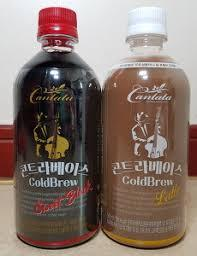contrabass_sweetblack: (8, 0, 102, 255)
